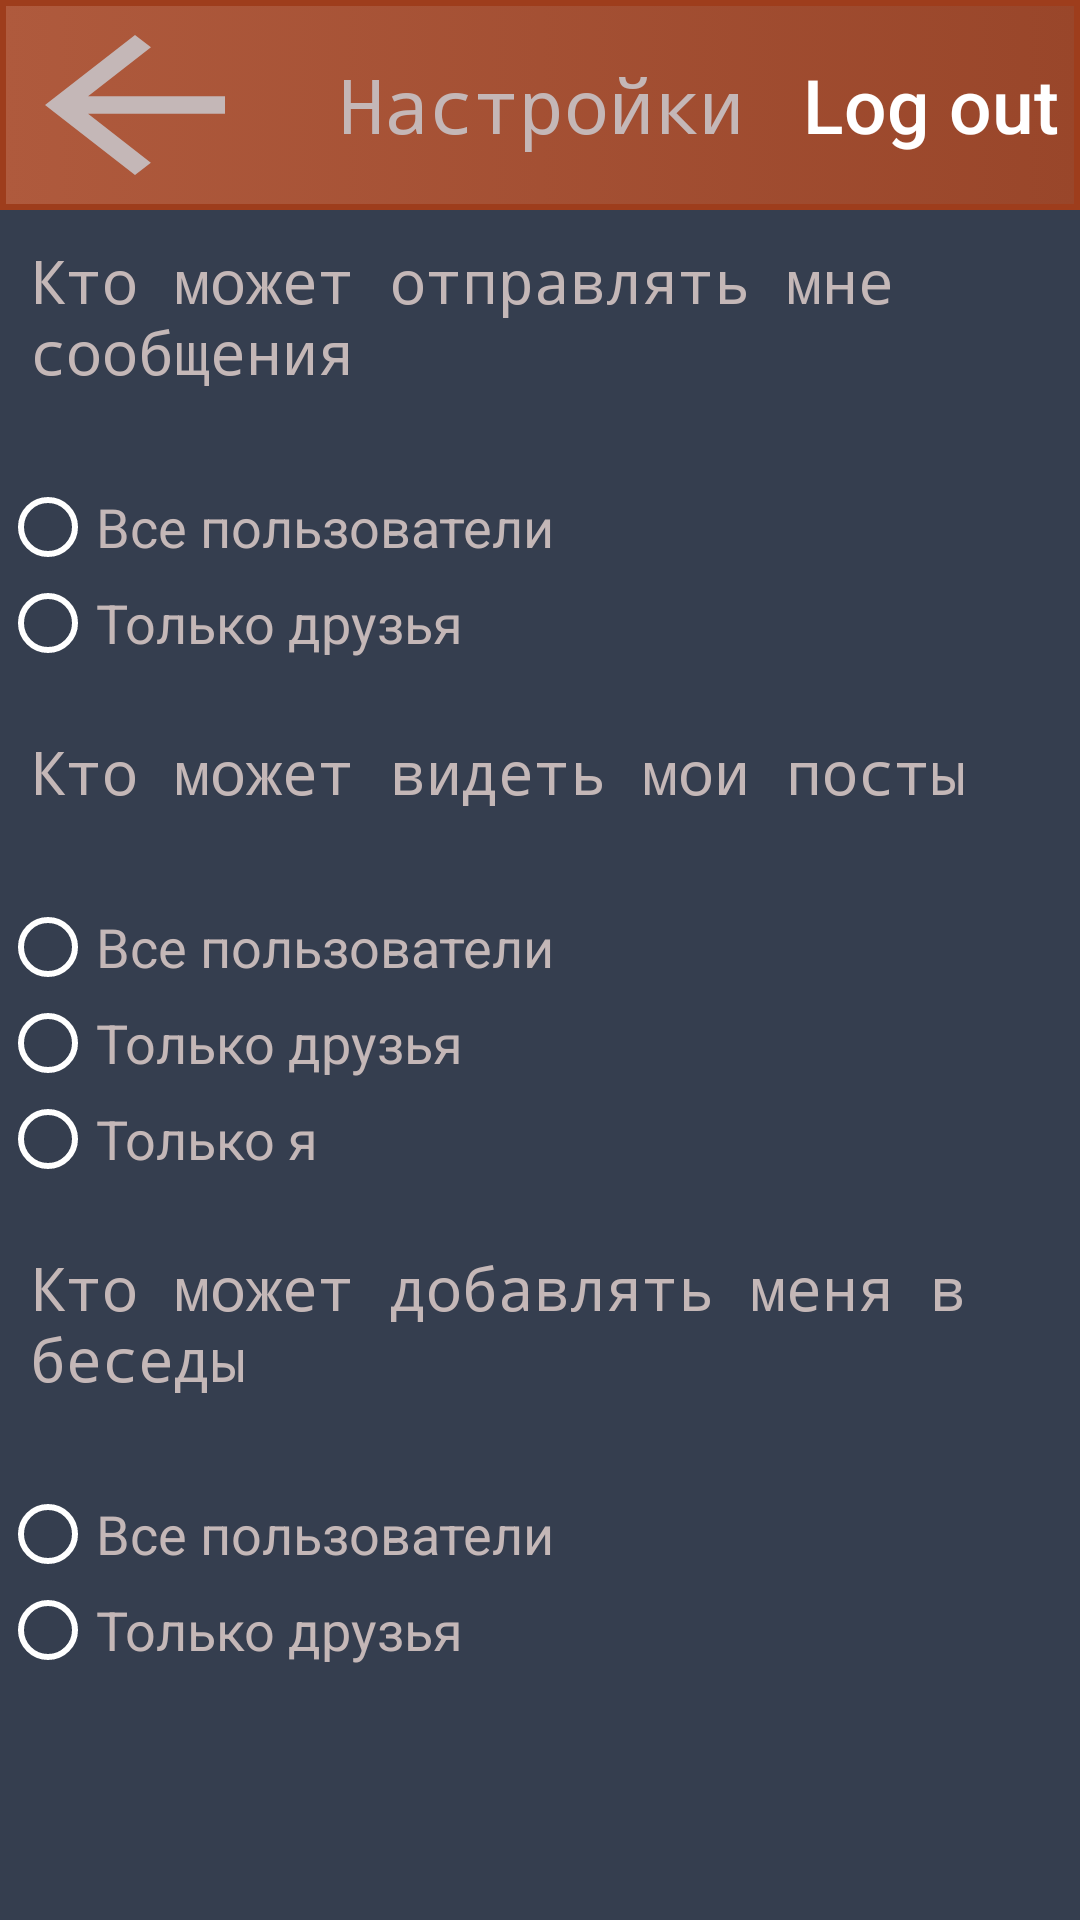

Screen size 1080×1920. Icon name, then its center in pixels as (x,y):
arrow back: (135,105)
